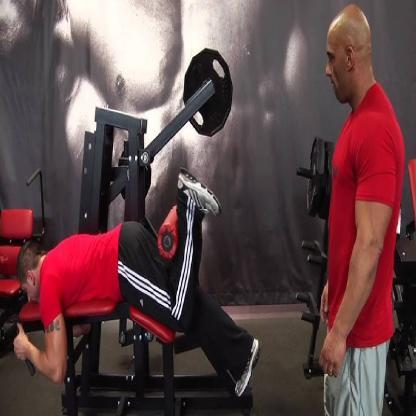reg curl machine: (9, 45, 264, 416)
